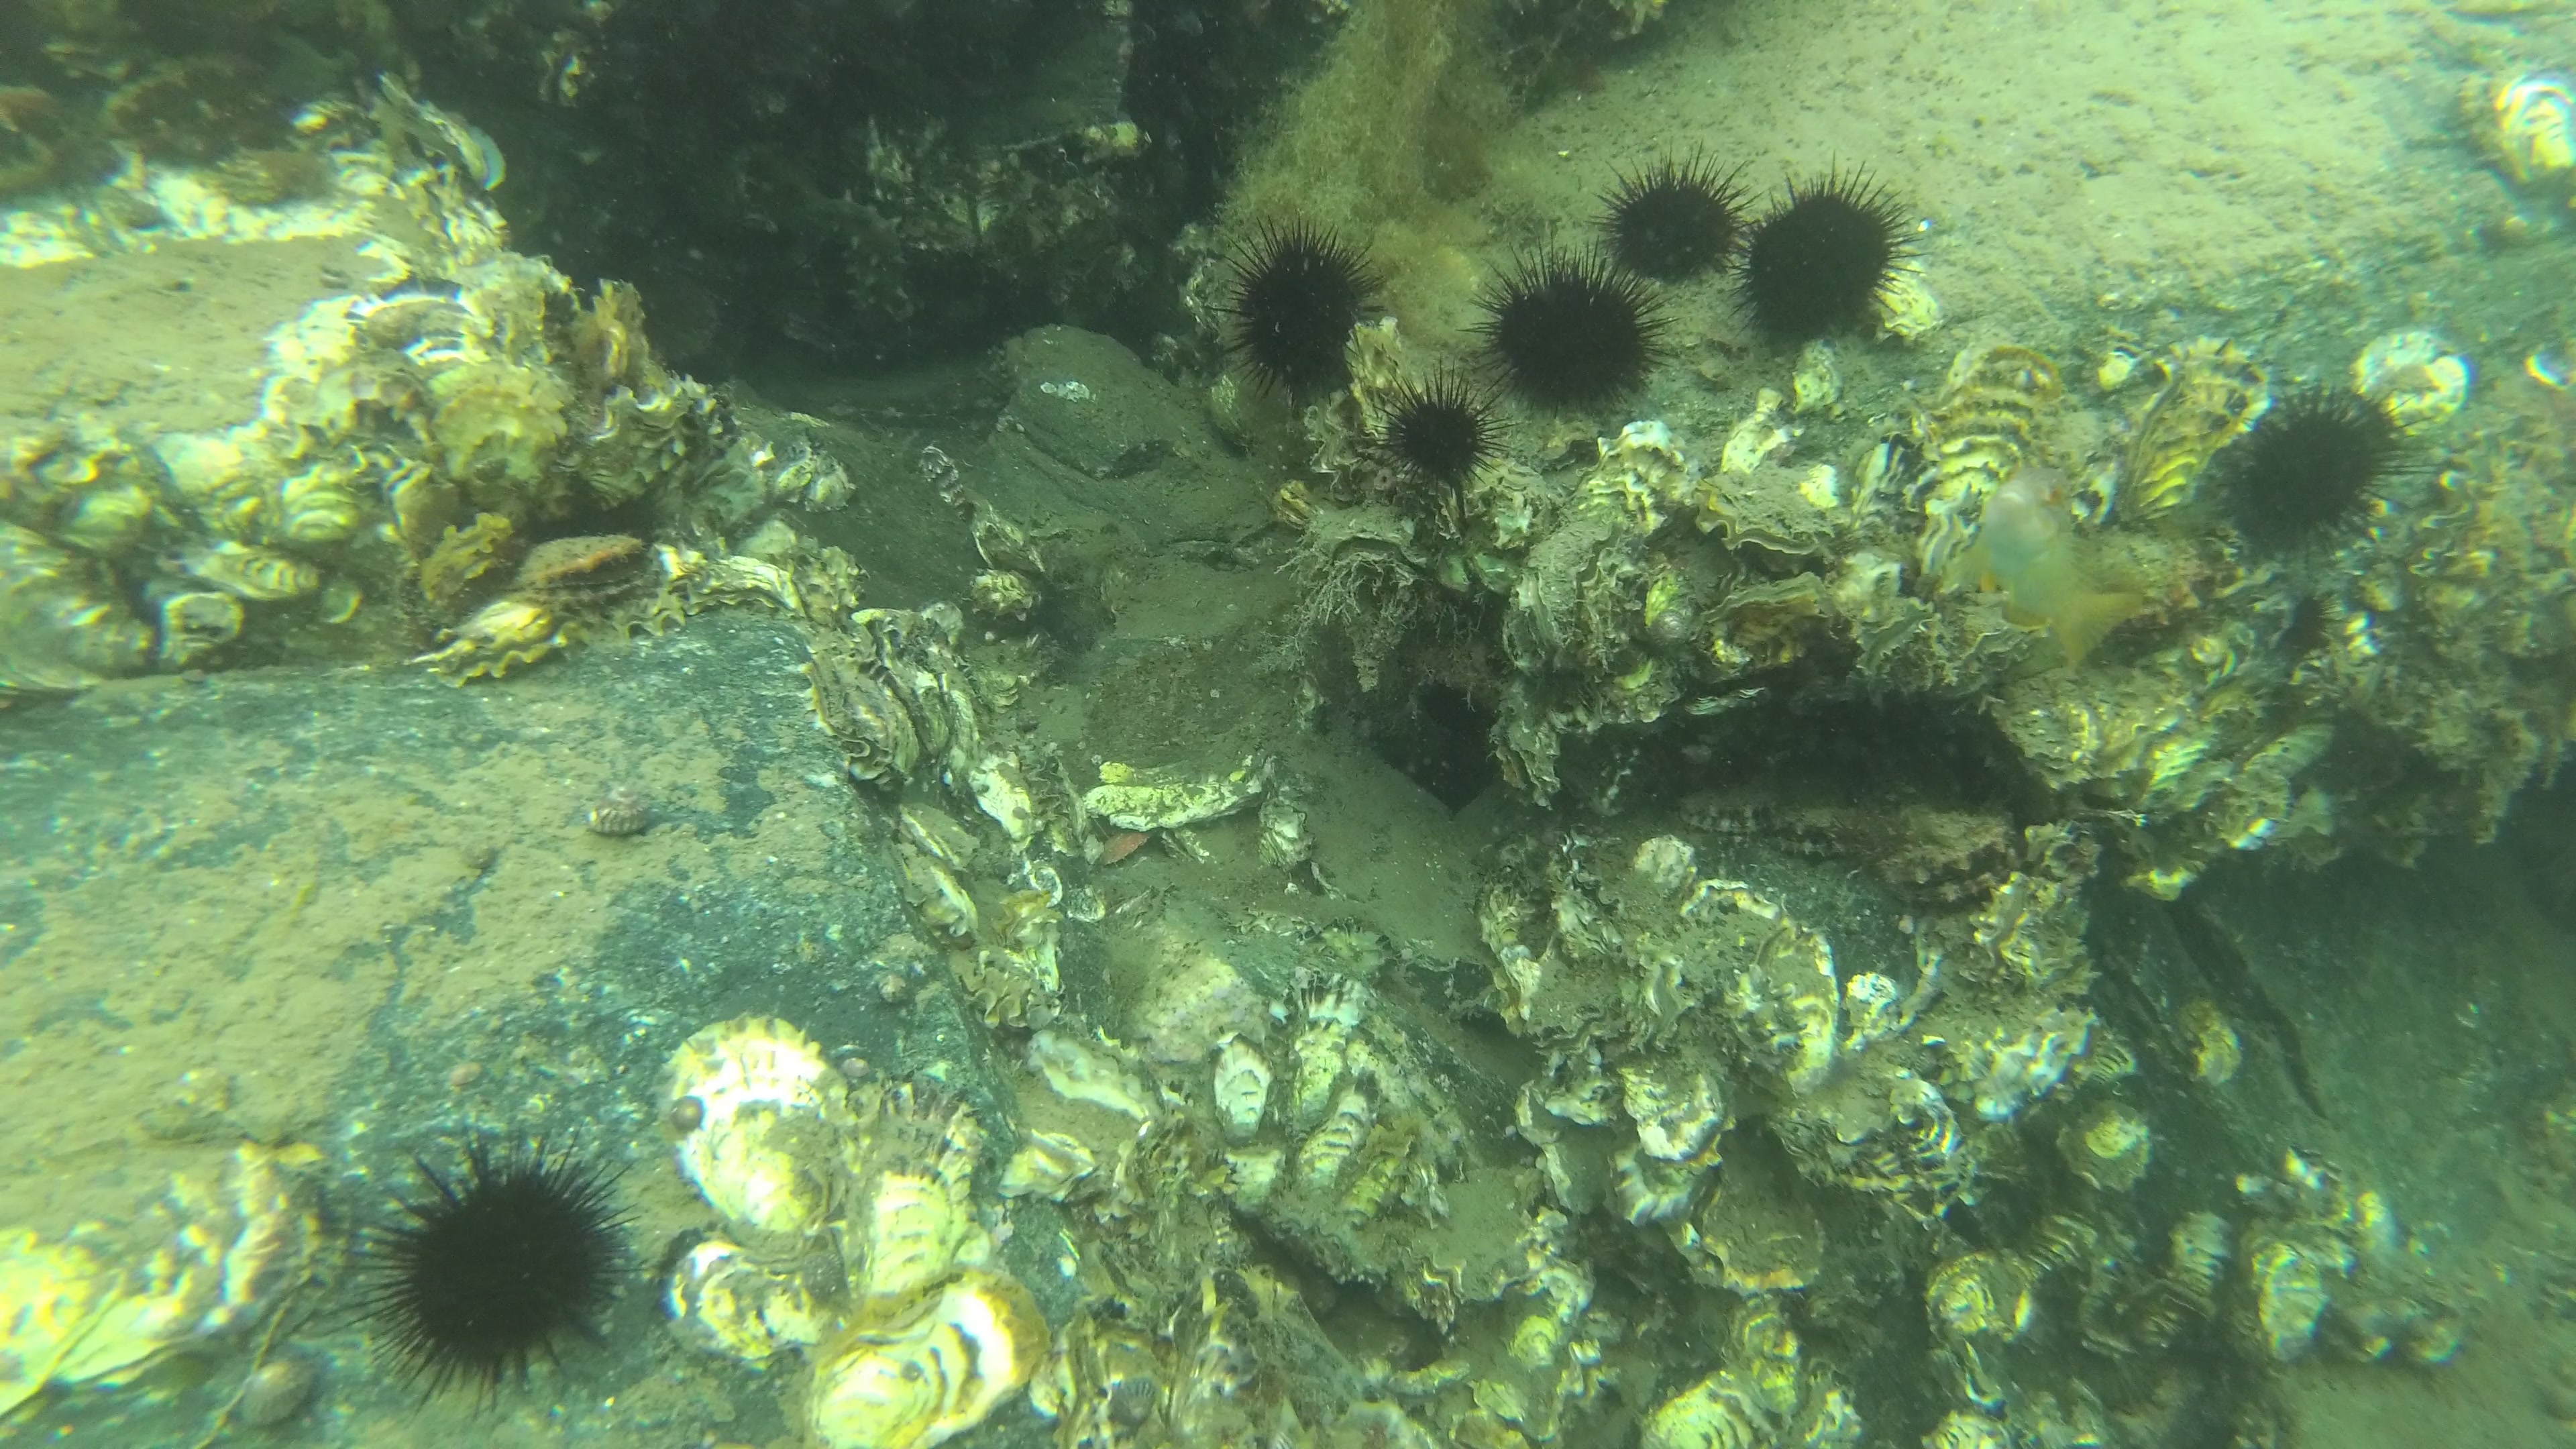echinus: (315, 1118, 653, 1426), (1454, 226, 1668, 412), (2224, 372, 2431, 563), (1736, 156, 1925, 341), (1212, 219, 1387, 407), (1589, 147, 1760, 288), (1368, 364, 1511, 497)
starfish: (402, 106, 508, 189)
